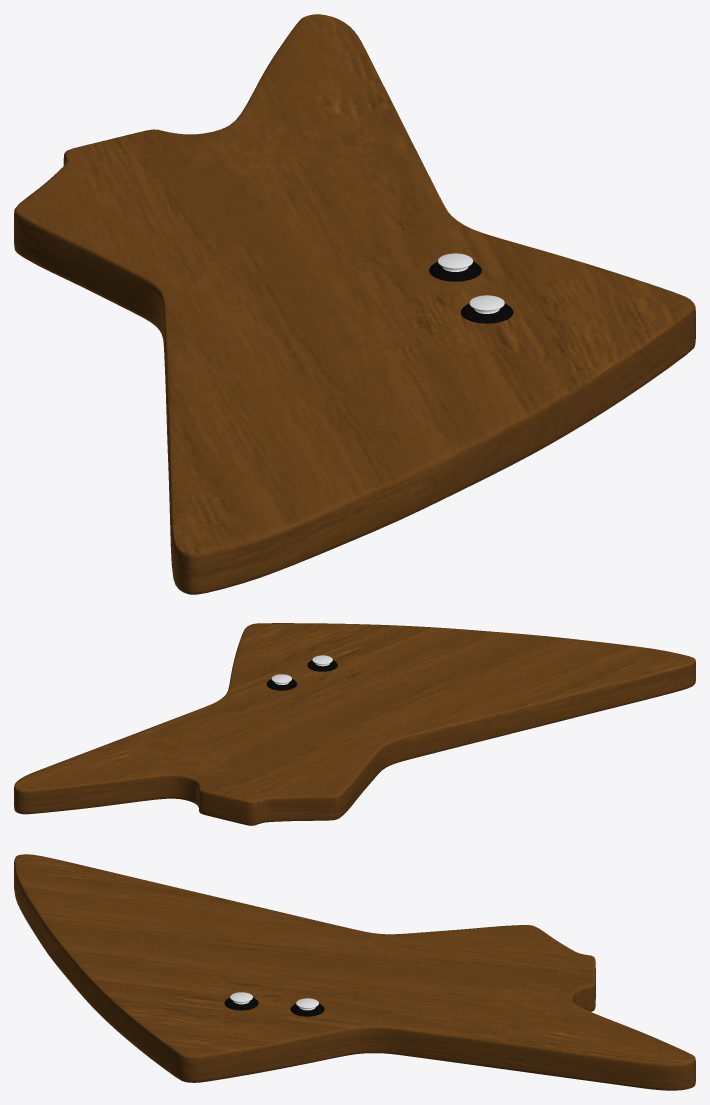
Rendered from Explorer_Fresno.glb.
3 renders of one model, top to bottom at view 1: azimuth 30°, elevation 25°; view 2: azimuth 150°, elevation 25°; view 3: azimuth 270°, elevation 25°, orthographic. The views are drawn at different scales.
Parts seen in each view (by area): view 1: Explorer_Fresno; view 2: Explorer_Fresno; view 3: Explorer_Fresno.
Part boxes in pixels (bbox=[...]): Explorer_Fresno: bbox=[14, 14, 695, 594]; Explorer_Fresno: bbox=[14, 623, 695, 825]; Explorer_Fresno: bbox=[14, 854, 695, 1090].
Bounding box in the file's own units: 2.26 × 0.1747 × 3.09.
3 materials, 1 textured.
